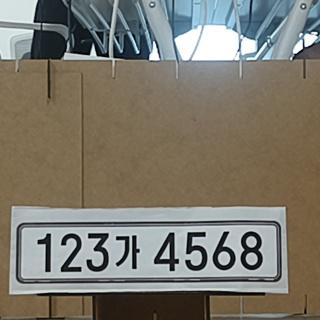normal: (16, 222, 282, 282)
